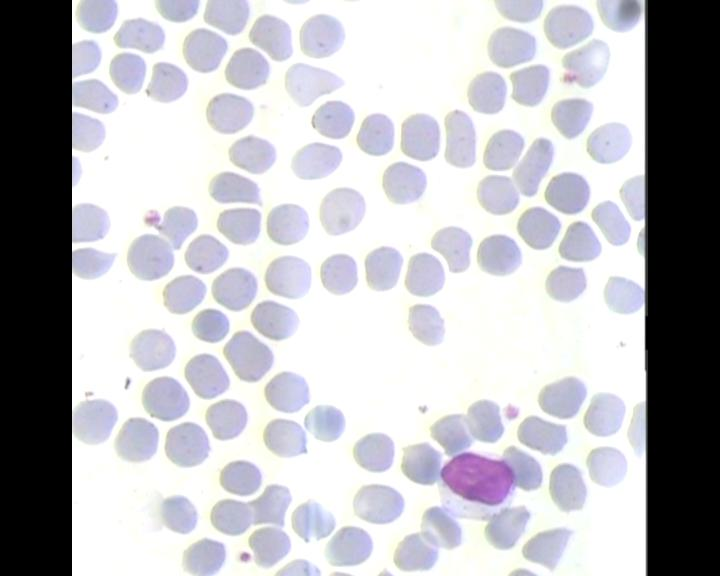lymp: (430, 447, 517, 525)
